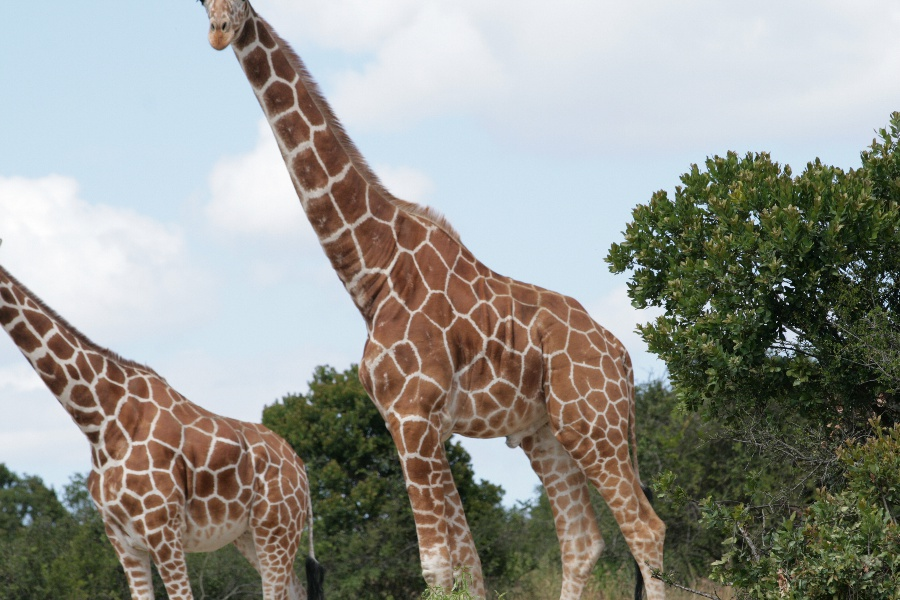giraffe: (188, 0, 684, 599), (0, 256, 331, 598)
